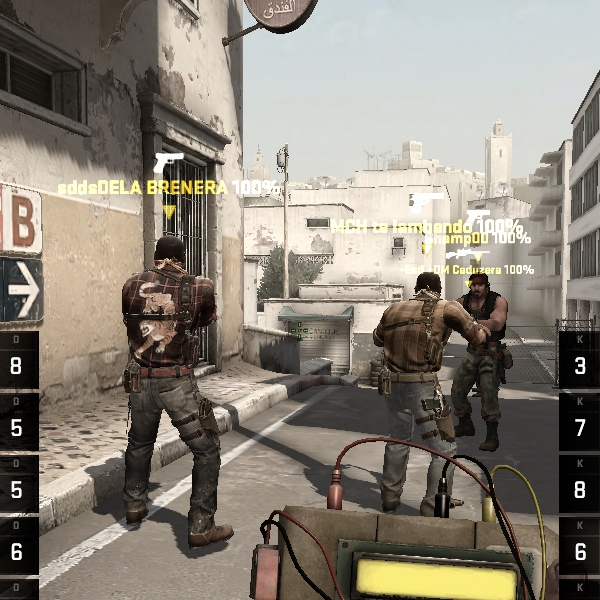t_body: (96, 223, 251, 550), (359, 259, 489, 486), (443, 265, 525, 454)
t_head: (141, 229, 198, 288), (406, 265, 452, 313), (459, 267, 496, 304)
